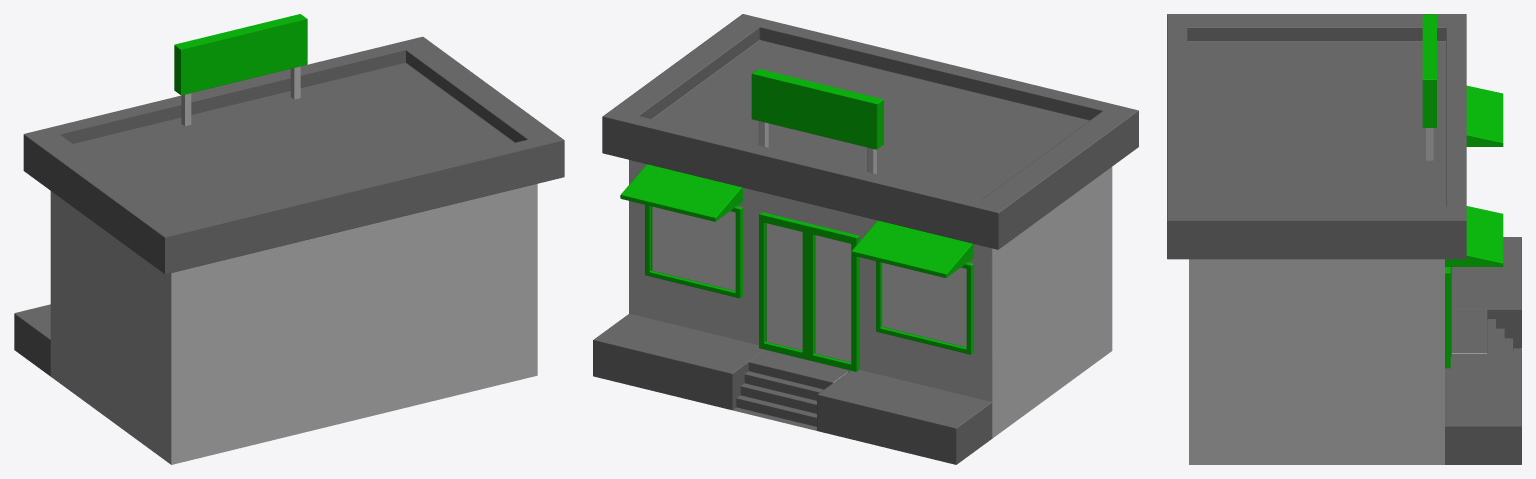
Rendered from blupHouse4.fbx.
3 views of the same model, side by side, from view 1: azimuth 30°, elevation 25°; view 2: azimuth 150°, elevation 25°; view 3: azimuth 270°, elevation 25° (orthographic). The views are drawn at different scales.
Parts seen in each view (by area): view 1: Cube.004; view 2: Cube.004; view 3: Cube.004.
Part boxes in pixels (x1,y1,x2,y2): Cube.004: (14, 14, 564, 464); Cube.004: (593, 14, 1138, 464); Cube.004: (1167, 14, 1521, 464).
Bounding box in the file's own units: 764 × 557 × 554.
